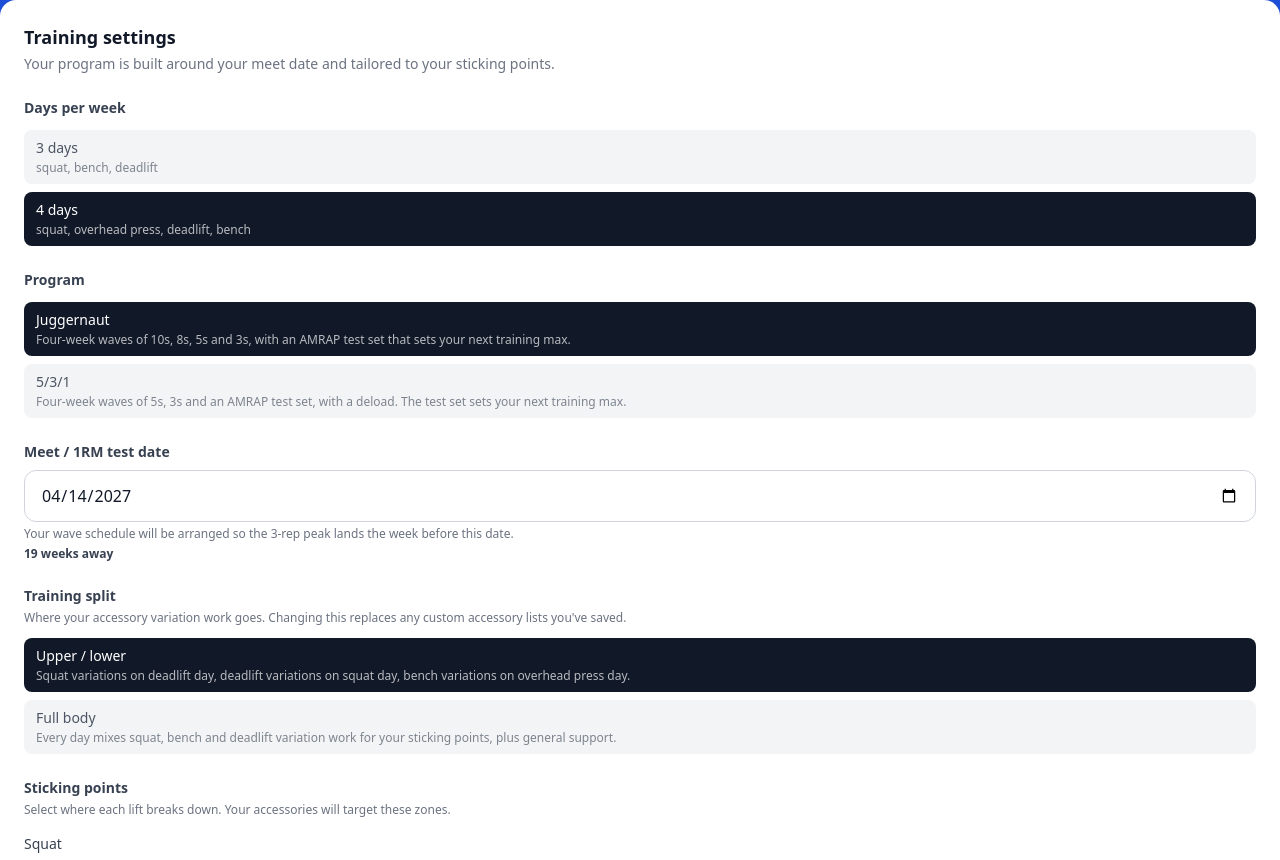
TrainingTab — program and days › clears the warning when the choice goes back to the current one
Click the radio button labelled "3 days squat, bench, deadlift": (57, 148) [24,130,1256,184]
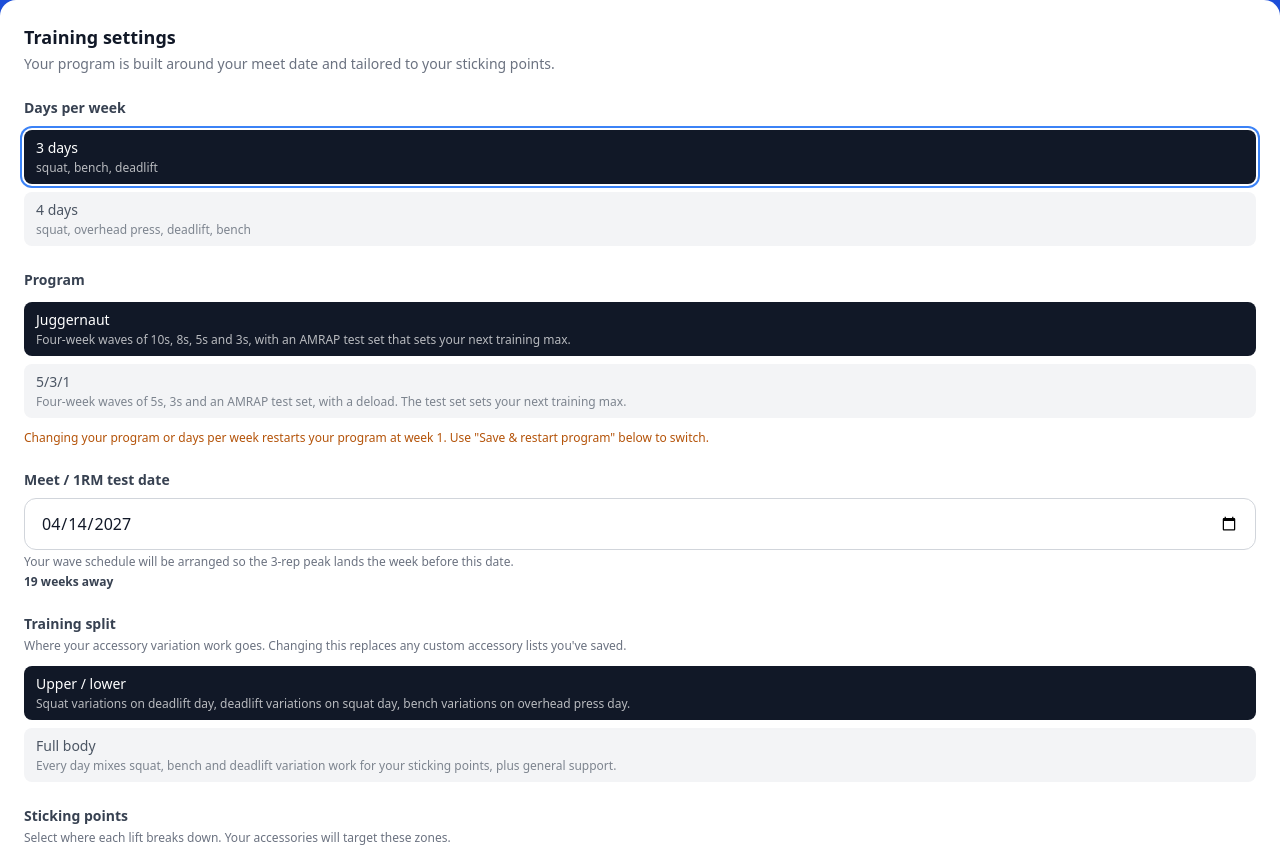
Click the radio button labelled "4 days squat, overhead press, deadlift, bench": (57, 210) [24,192,1256,246]
(page scrolled)
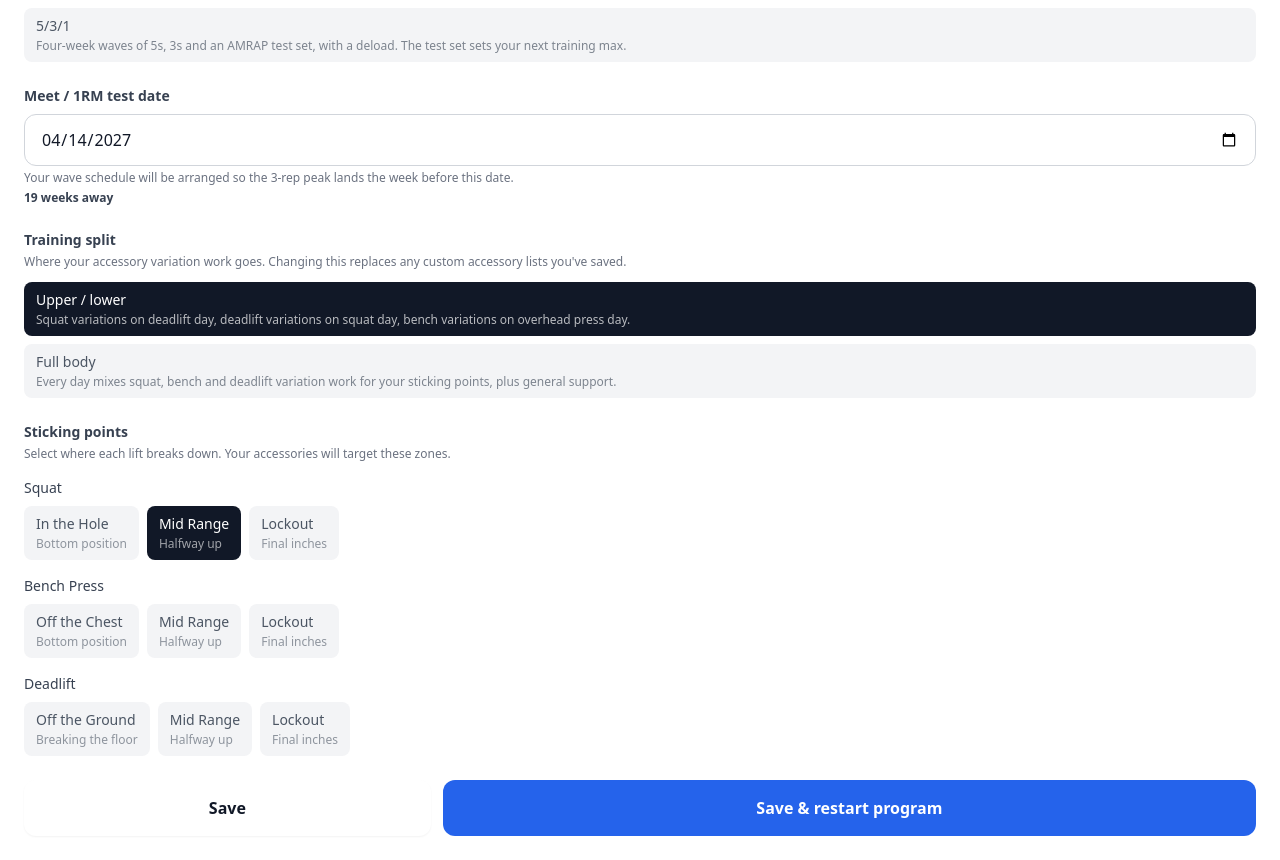
Check: the button "Save" is enabled, box [24,780,431,836]
